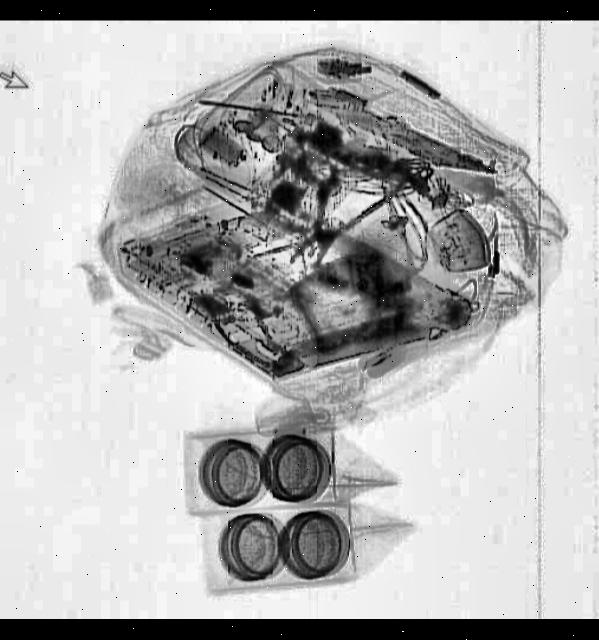Pliers: (272, 138, 407, 291)
